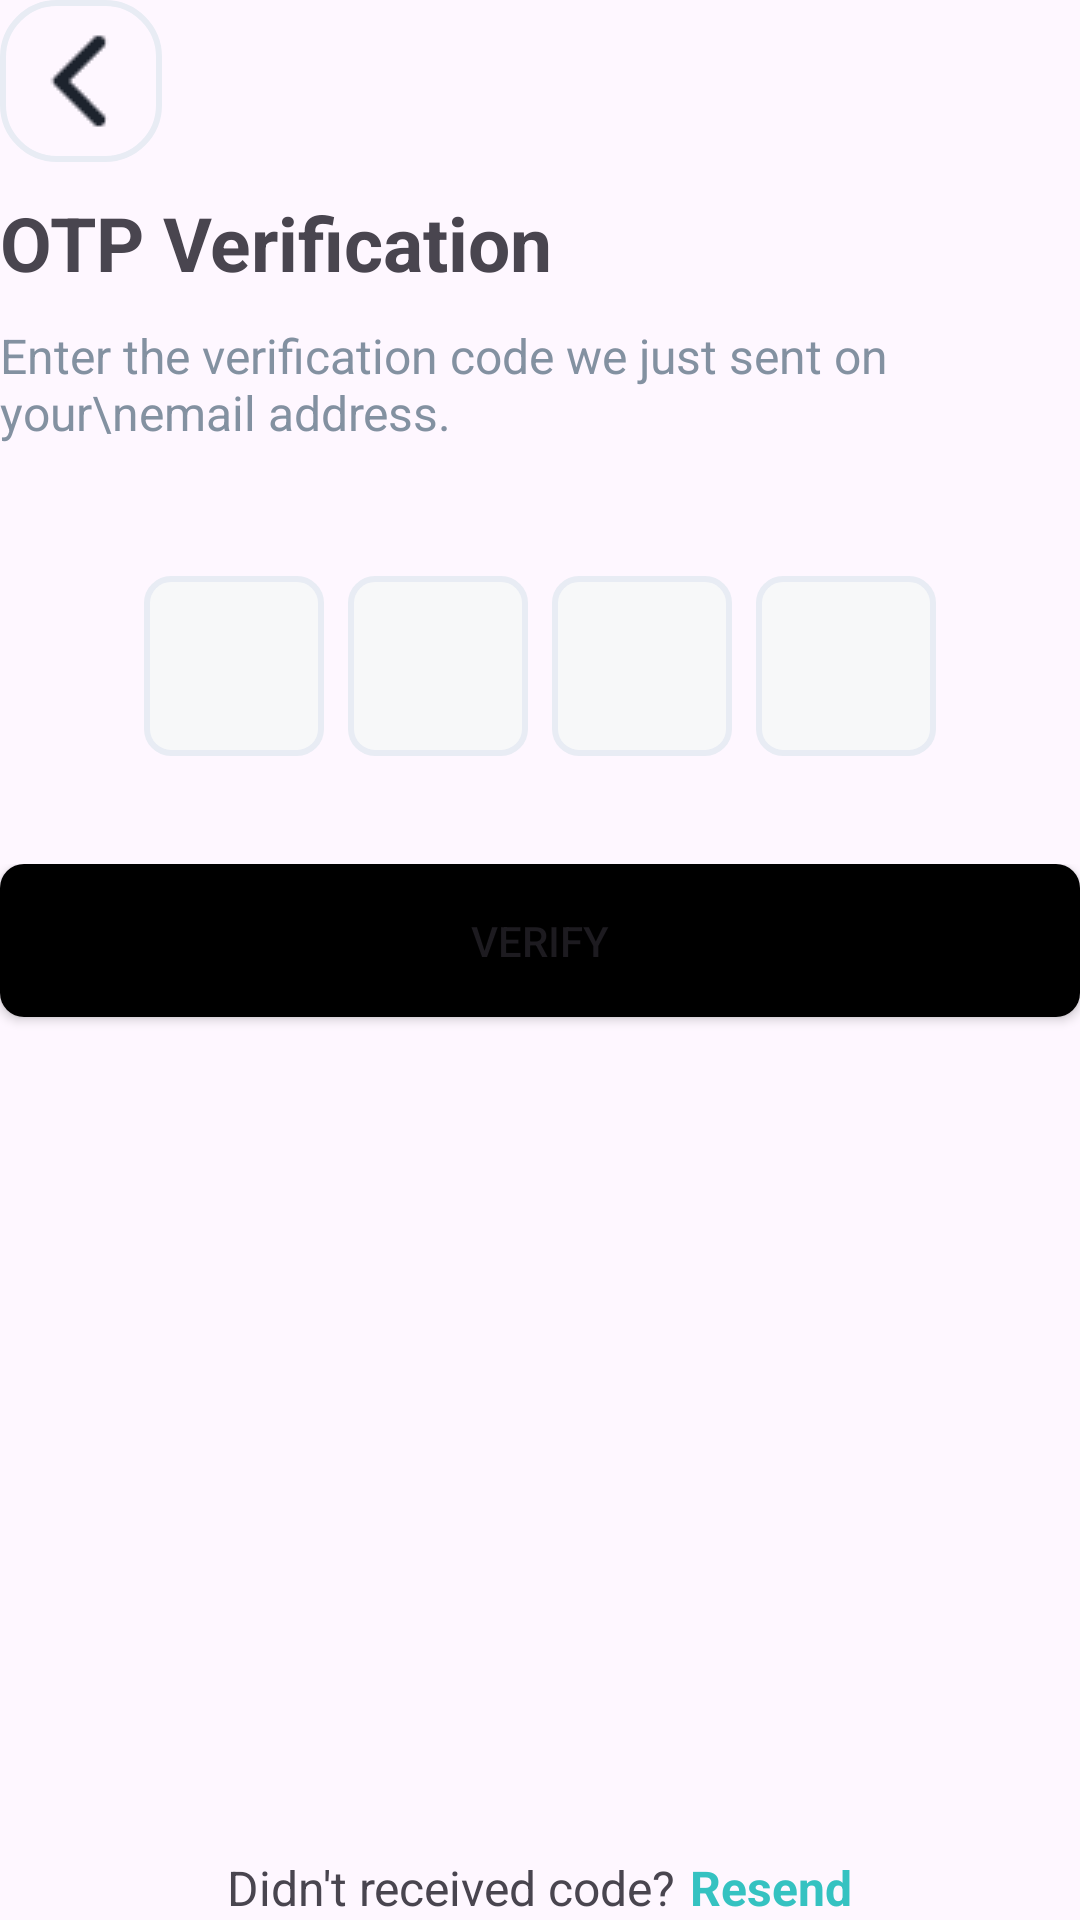

Icon bounding boxes for this 1080*1920 phone screenshot, format {"x1": x1, "y1": y1, "x2": x2, "y2": y2}:
Back: {"x1": 51, "y1": 35, "x2": 106, "y2": 127}
